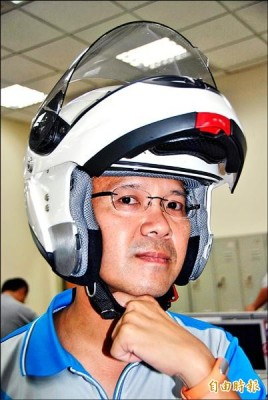helmet: (36, 76, 258, 249)
